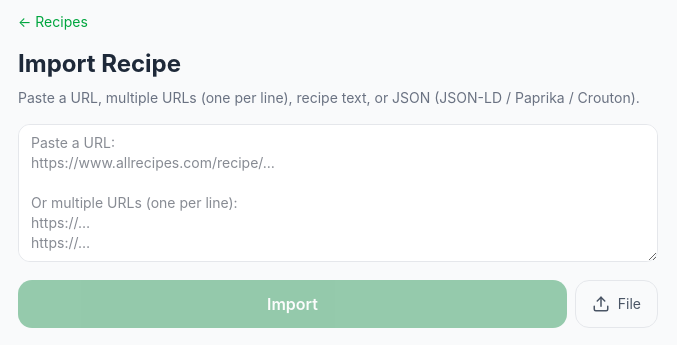
Test case: RecipeImportPage › loading state › shows a loading indicator while extracting
Type "https://example.com/recipe" into the text box at (338, 193), box [18,124,658,262]
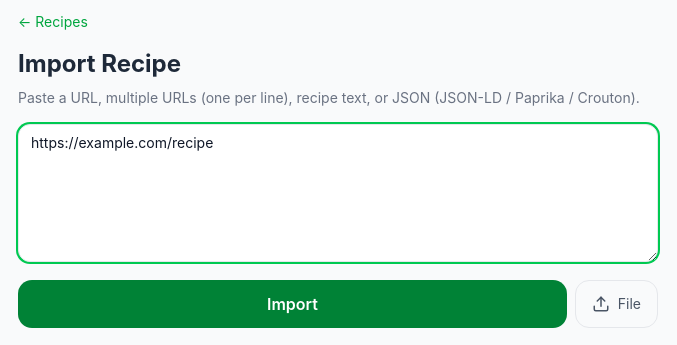
Click the button "Import" at (292, 304), box [18,280,567,328]
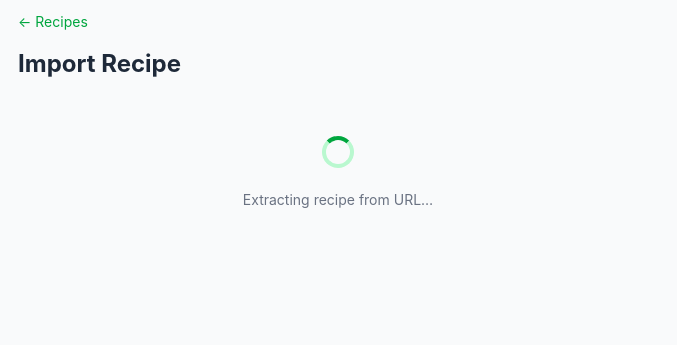
Result: the message "Extracting recipe from URL…" is shown at [243,136,433,208]
